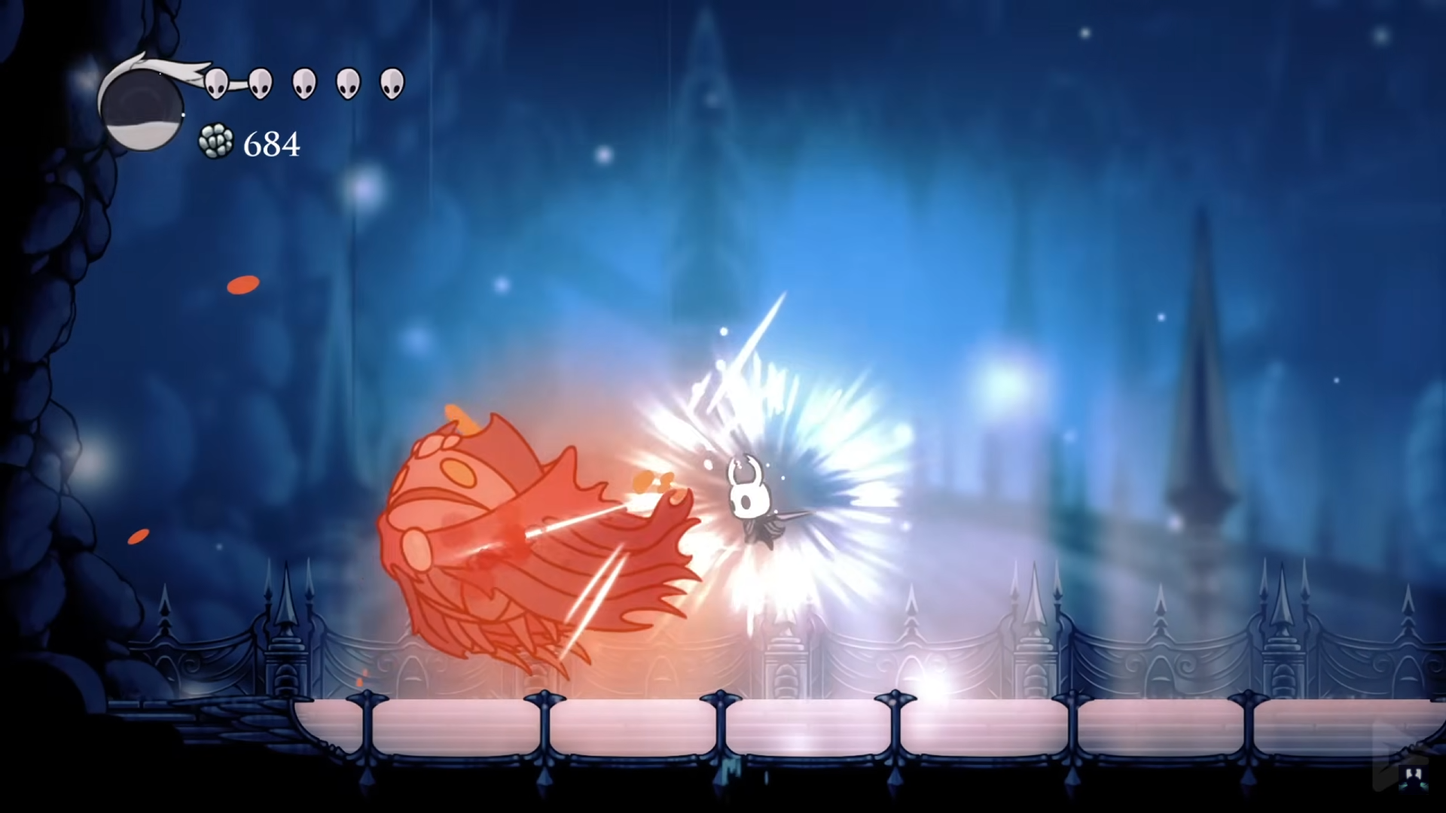HK: (719, 450, 793, 568)
